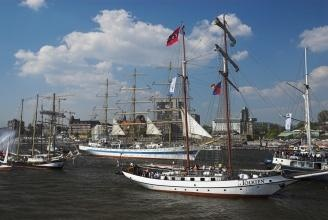fanchuan: (119, 17, 292, 196), (79, 72, 212, 155), (271, 48, 328, 166), (2, 88, 78, 168)
